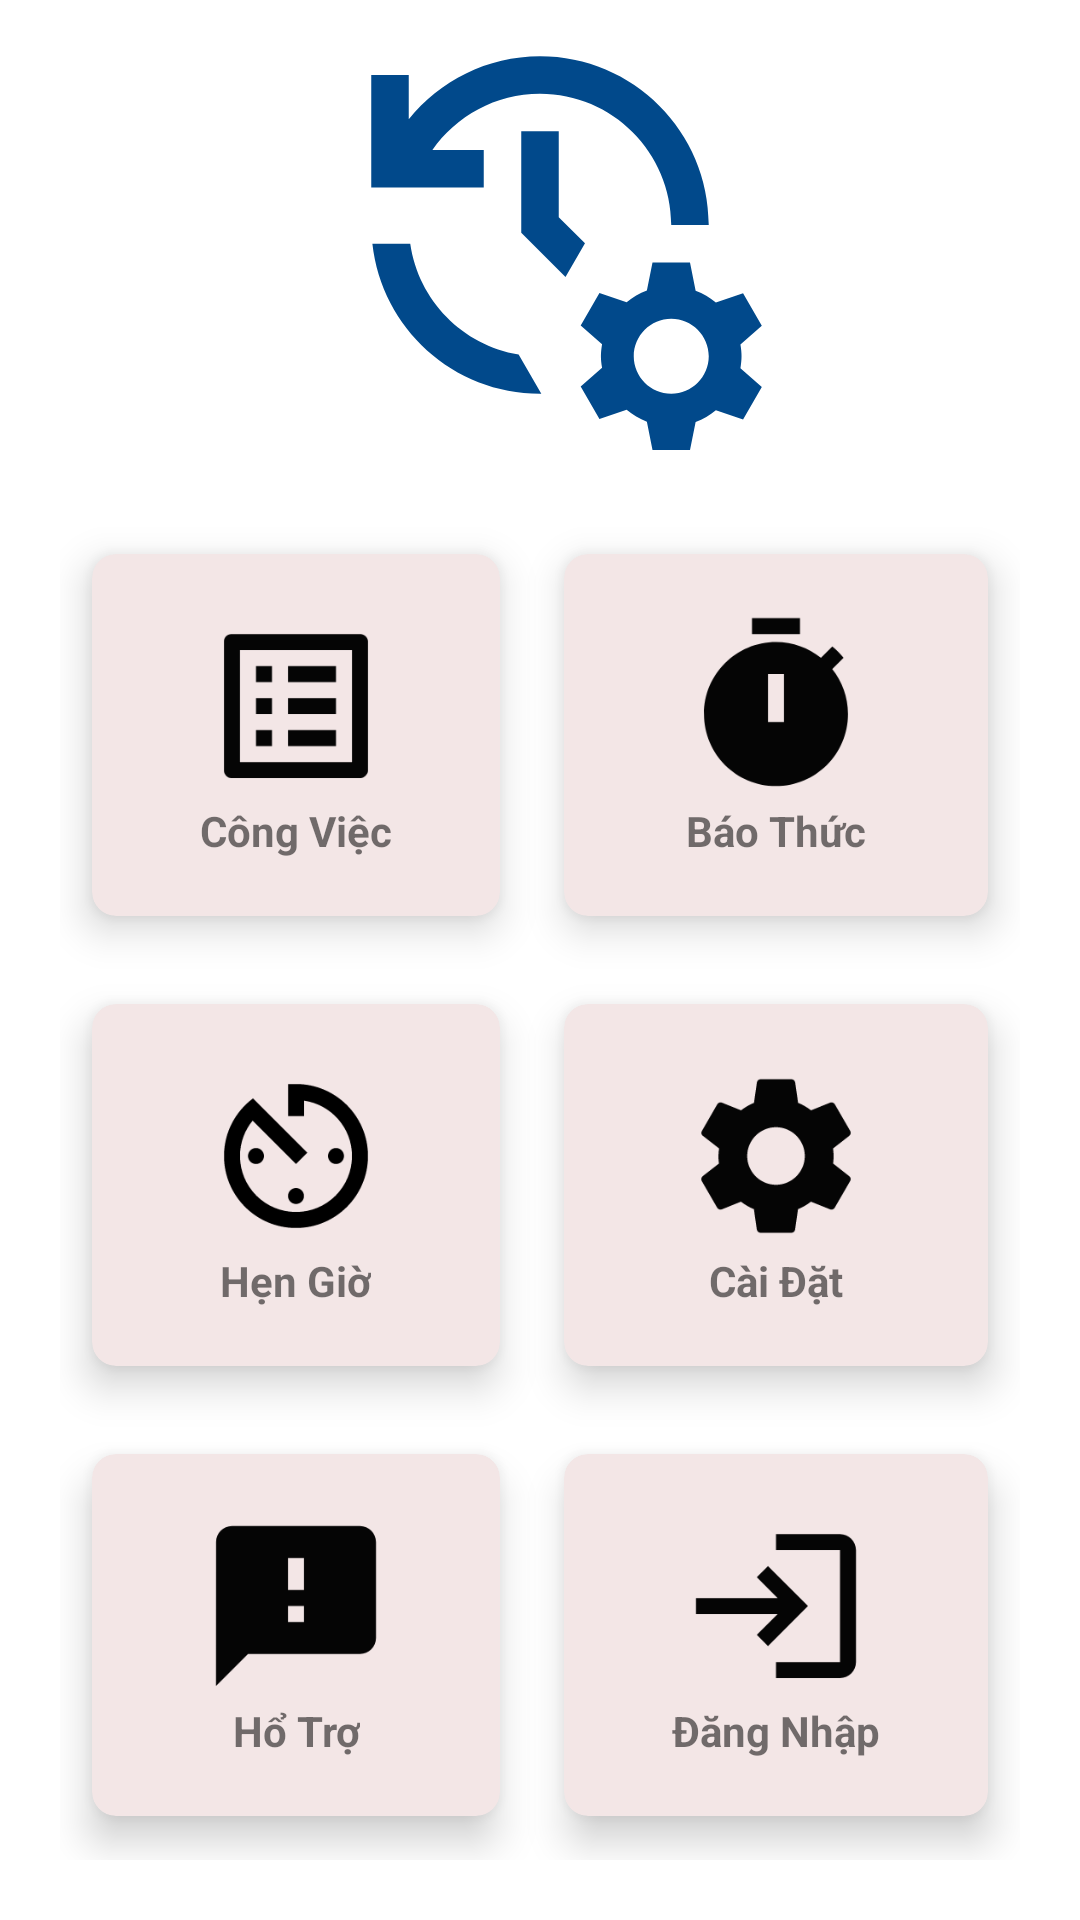

Named icons in this screenshot (1080*1920) and their bounding boxes, (x1, y1, x2, y2):
list: (224, 634, 368, 778)
timer: (704, 617, 848, 787)
